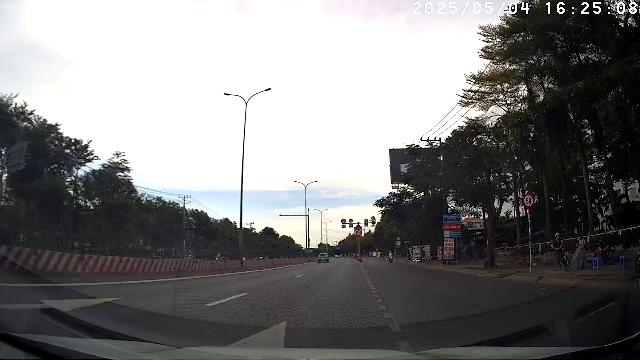127-toc-do-toi-da-50: (522, 193, 535, 209)
